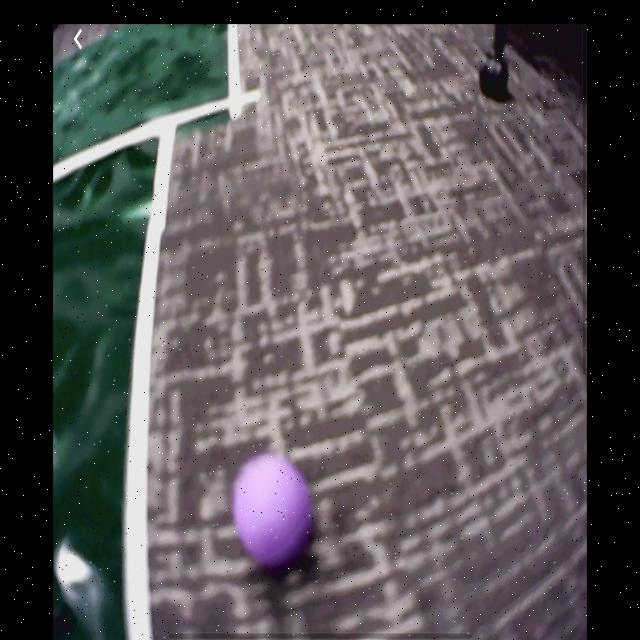ball: (232, 452, 316, 573)
